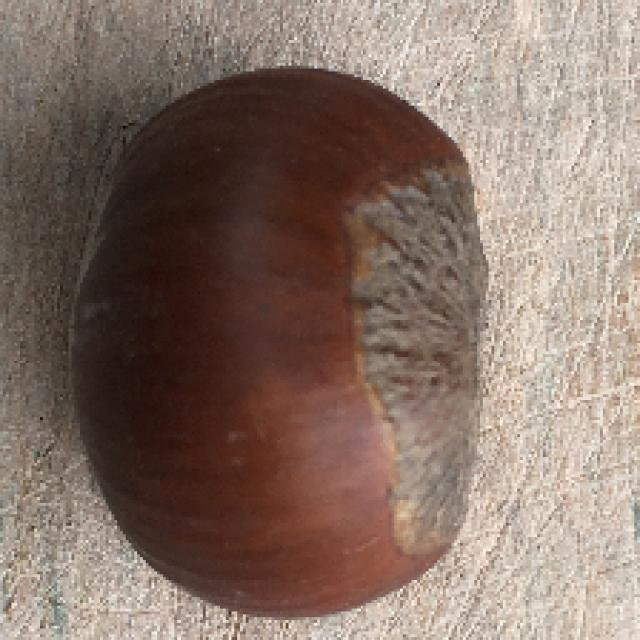damagedHazelnut: (63, 62, 493, 614)
